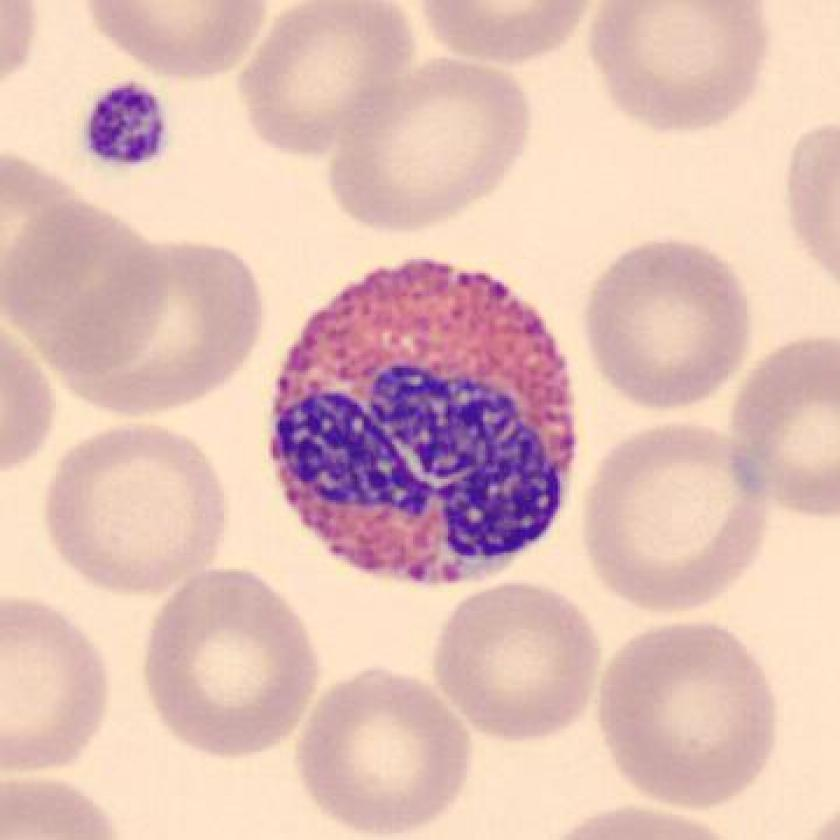eosinophil: (253, 246, 591, 596)
